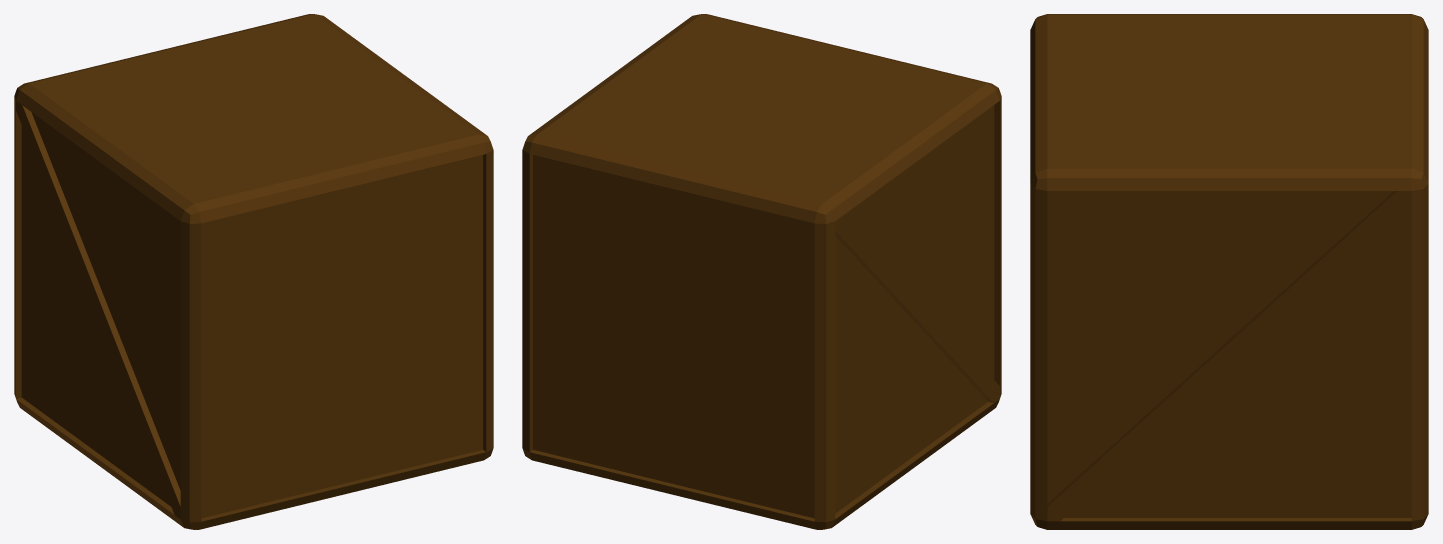
Rendered from crate.glb.
3 views of the same model, side by side, from view 1: azimuth 30°, elevation 25°; view 2: azimuth 150°, elevation 25°; view 3: azimuth 270°, elevation 25° (orthographic). The views are drawn at different scales.
Parts seen in each view (by area): view 1: crate_old; view 2: crate_old; view 3: crate_old.
Part boxes in pixels (x1,y1,x2,y2): crate_old: (14,14,493,529); crate_old: (522,14,1001,529); crate_old: (1030,14,1428,529).
Size of the model in its own units: 1.93 by 1.93 by 1.93.
